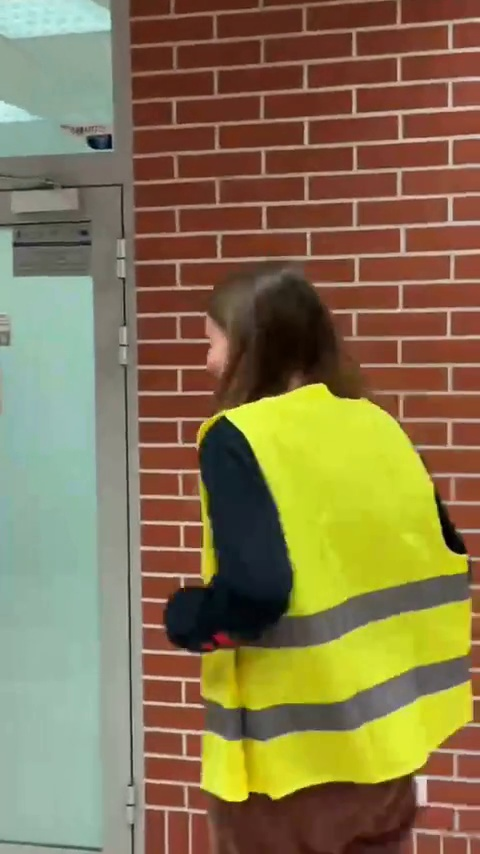vest: (155, 271, 471, 842)
